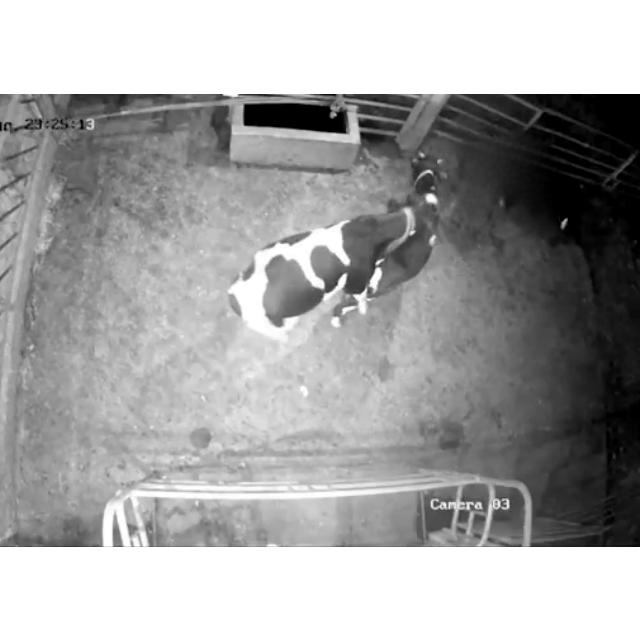ride: (227, 199, 430, 341)
